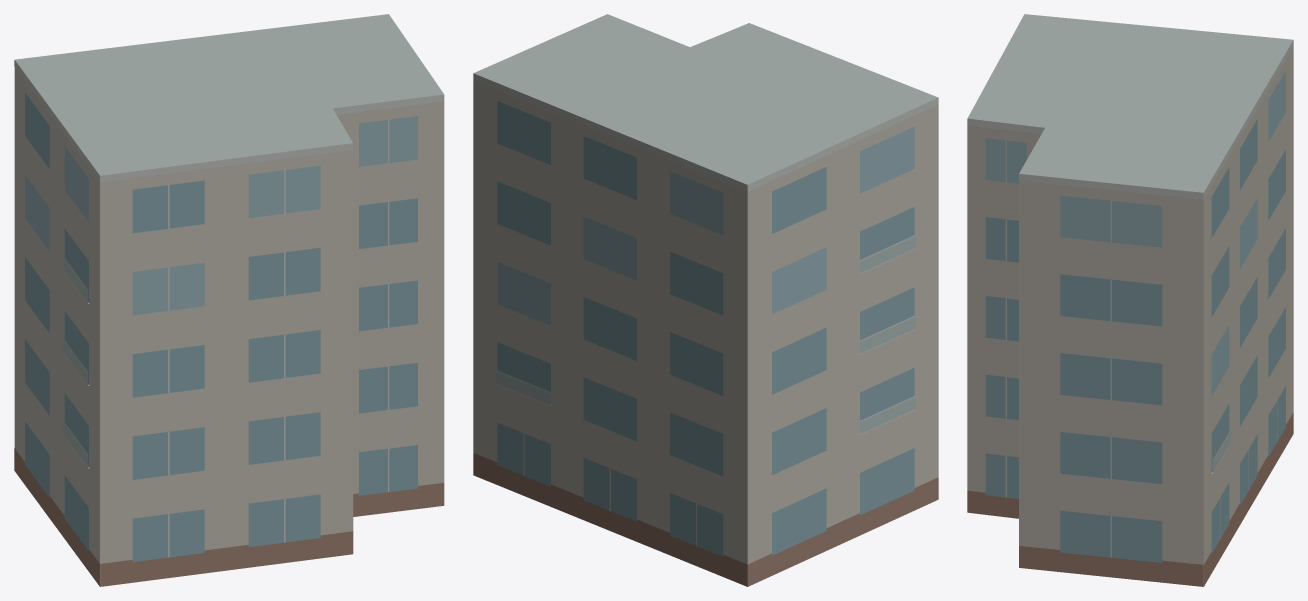
The model's file is survey-upis-32971987.glb.
The picture shows the model from 3 angles, left to right: view 1: azimuth 30°, elevation 25°; view 2: azimuth 150°, elevation 25°; view 3: azimuth 270°, elevation 25°; orthographic projection. The views are drawn at different scales.
Parts seen in each view (by area): view 1: survey-upis-32971987.tmp; view 2: survey-upis-32971987.tmp; view 3: survey-upis-32971987.tmp.
Boxes of the visible parts, box(x1,y1,x2,y2) form: survey-upis-32971987.tmp: box(14, 14, 444, 586); survey-upis-32971987.tmp: box(473, 14, 938, 586); survey-upis-32971987.tmp: box(967, 14, 1293, 586).
Size of the model in its own units: 14.02 by 14.4 by 10.81.
